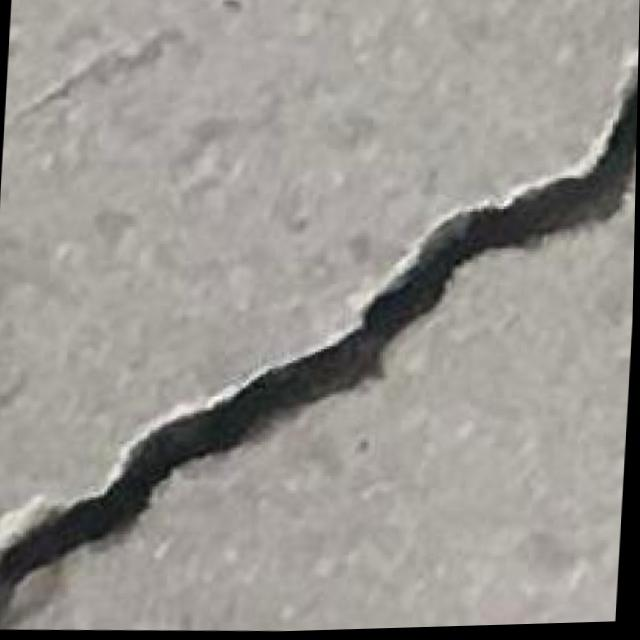Crack: (0, 27, 639, 640)
